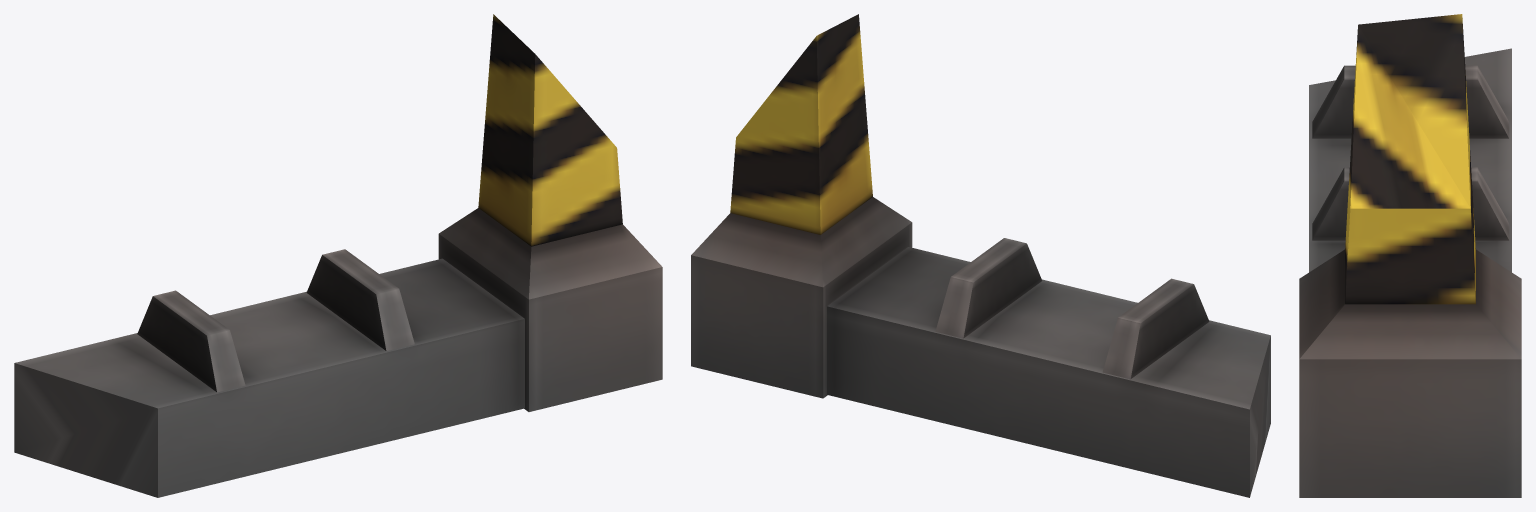
Rendered from B1Broke02.FBX.
3 renders of one model, left to right at view 1: azimuth 30°, elevation 25°; view 2: azimuth 150°, elevation 25°; view 3: azimuth 270°, elevation 25°, orthographic. The views are drawn at different scales.
Visible parts, largest first — view 1: B1Broke02; view 2: B1Broke02; view 3: B1Broke02.
Part boxes in pixels (left/top/right/bottom): B1Broke02: left=14, top=14, right=662, bottom=497; B1Broke02: left=691, top=14, right=1270, bottom=497; B1Broke02: left=1299, top=14, right=1521, bottom=497.
Bounding box in the file's own units: 67.6 × 39.36 × 18.79.
